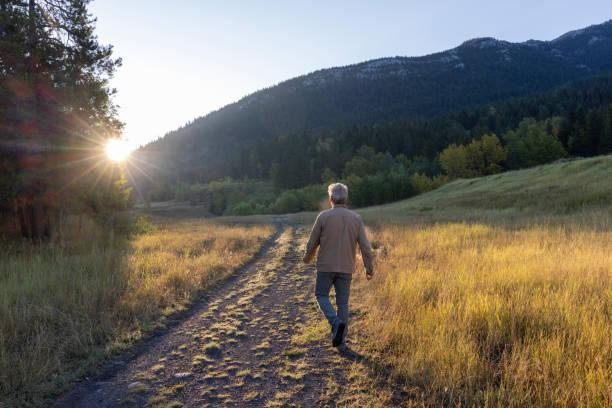Human: (307, 183, 379, 361)
